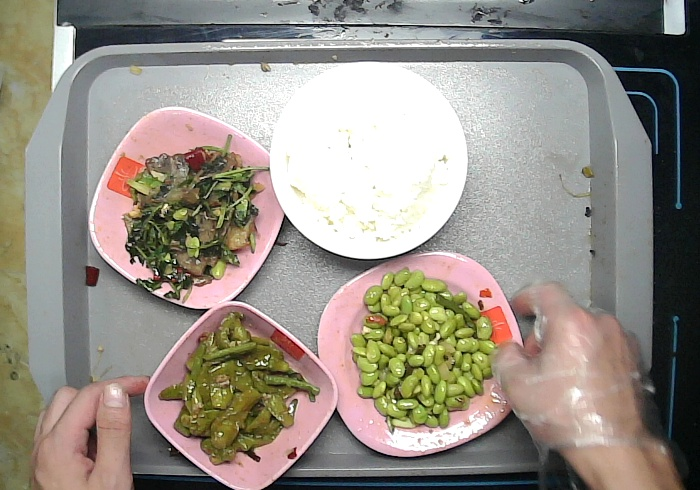SHKJ-Fan_Wan: (268, 60, 470, 262)
SHKJ-Fen_Se_Cai_Die: (86, 104, 287, 310)
SHKJ-Fen_Se_Si_Fang_Cai_Die: (316, 250, 525, 459)
SHKJ-Fen_Se_Xiao_Fang_Die: (141, 299, 340, 490)
